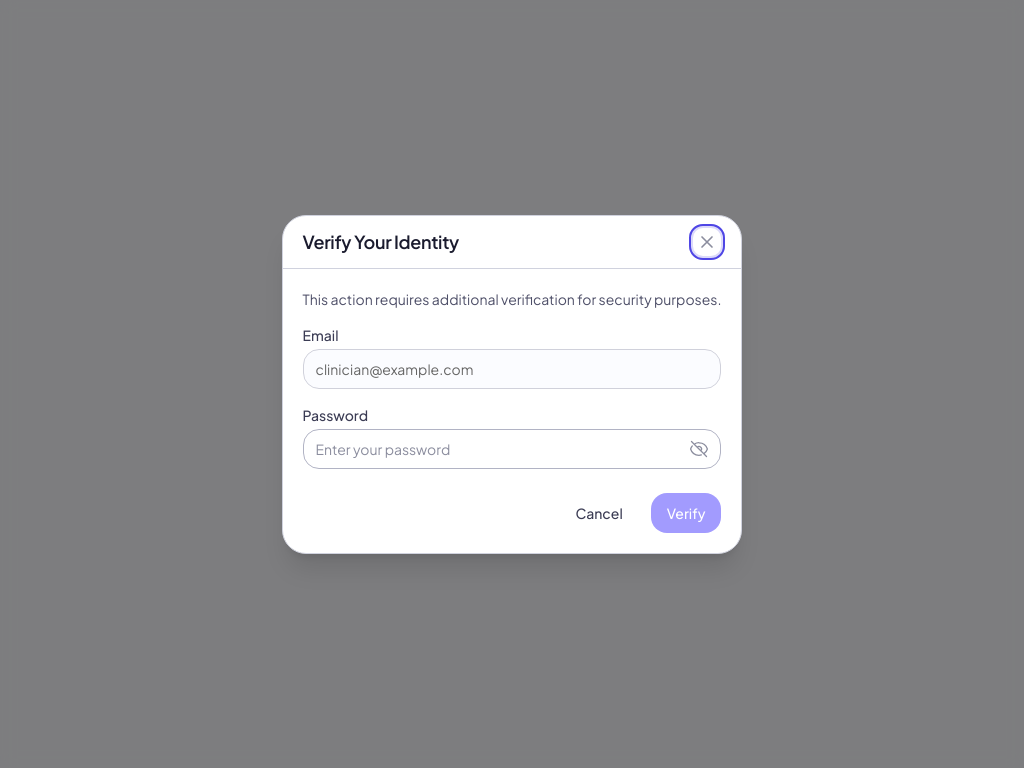
Test: StepUpAuth › shows authenticator copy for TOTP step-up challenges
Type "DemoPassword2026!" into the password field labelled "Password". click: (512, 448)
box: 302,428 -> 722,468
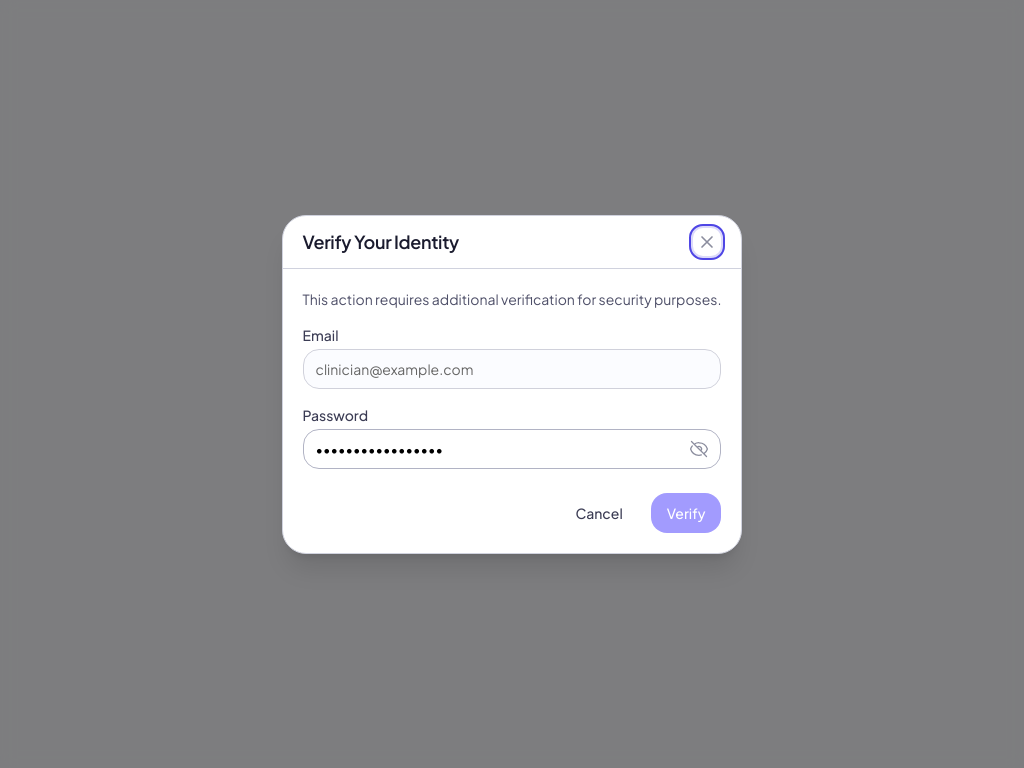
Click the button "Verify". click: (686, 512)
box: 651,492 -> 722,532
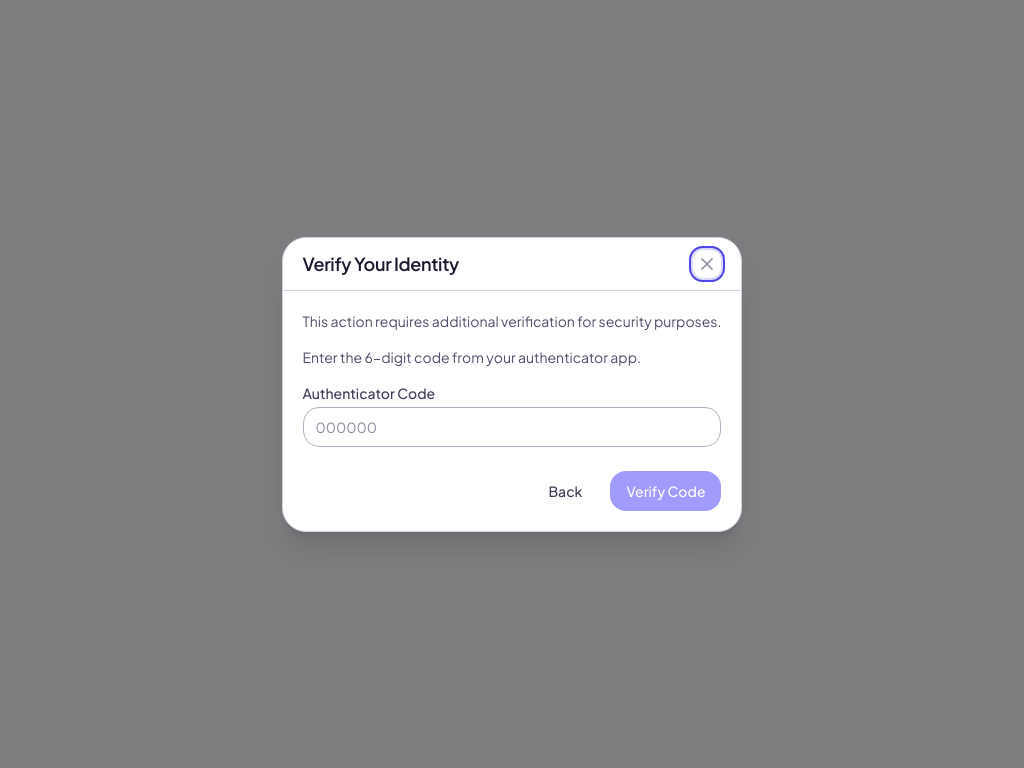
Check: the field labelled "Authenticator Code" is shown, box 302,406 -> 722,446
Check: the text "Enter the 6-digit code from your authenticator app." is shown, box 302,348 -> 641,366
